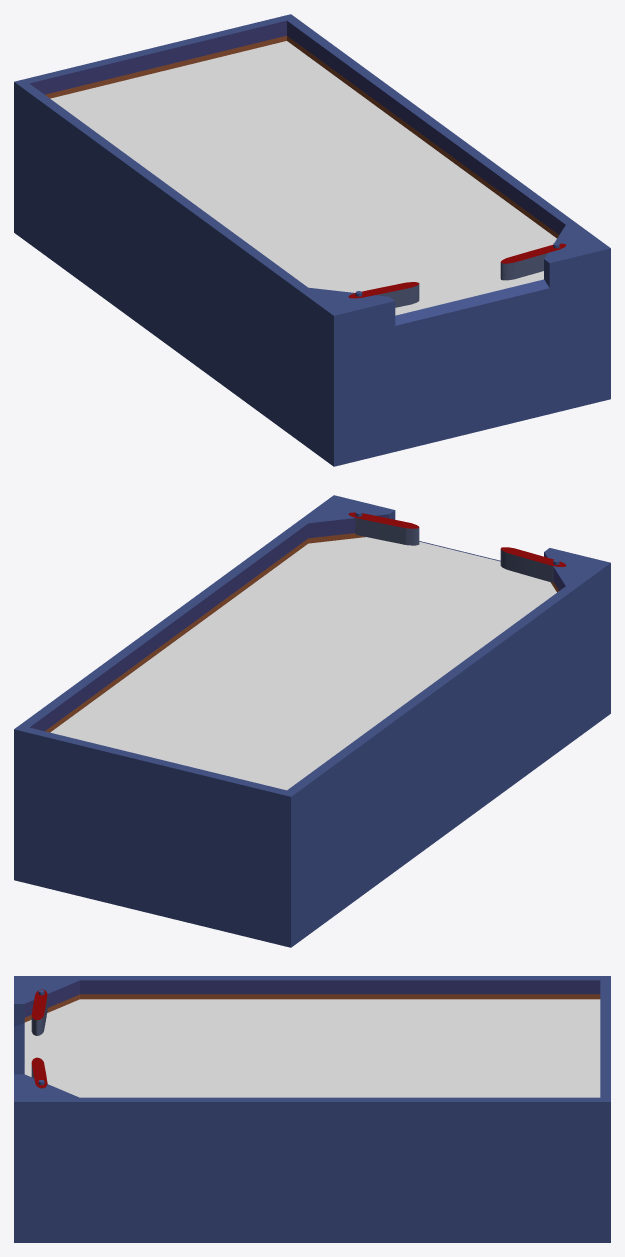
File: pnball (2).fbx
3 views of the same model, one above another, from view 1: azimuth 30°, elevation 25°; view 2: azimuth 150°, elevation 25°; view 3: azimuth 270°, elevation 25° (orthographic). The views are drawn at different scales.
Parts seen in each view (by area): view 1: Cube, Cube.004, Cube.001; view 2: Cube, Cube.004, Cube.001; view 3: Cube, Cube.001, Cube.004.
Boxes of the visible parts, x1,y1,x2,y2 form: Cube: [14, 14, 610, 466]; Cube.004: [500, 243, 566, 280]; Cube.001: [348, 282, 419, 307]; Cube: [14, 495, 610, 947]; Cube.004: [348, 512, 419, 545]; Cube.001: [500, 547, 566, 582]; Cube: [14, 976, 610, 1242]; Cube.001: [31, 989, 47, 1035]; Cube.004: [31, 1057, 47, 1088].
Bounding box in the file's own units: 200 × 106 × 400.
